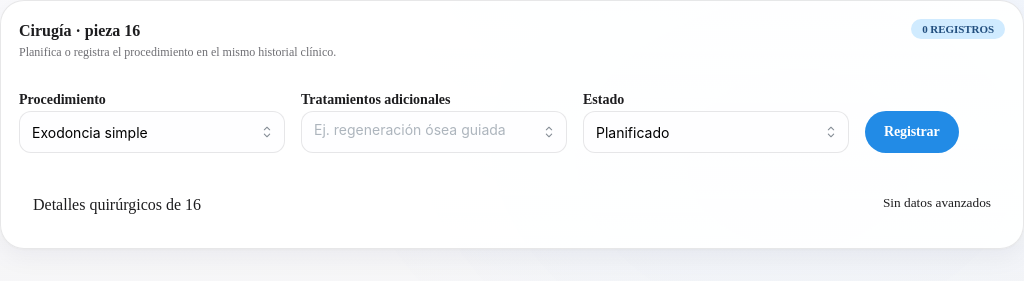
Test: offers Gingivectomía in procedure selector
Step 1. Click the dropdown labelled "Procedimiento" → (152, 132), box x1=19 y1=111 x2=285 y2=153
(page scrolled)
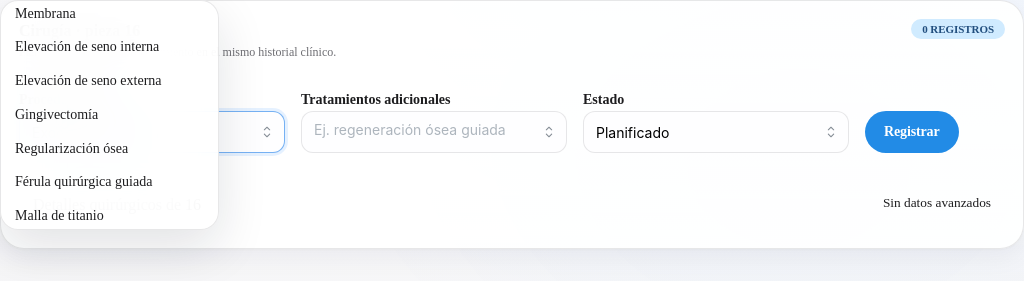
Expected: the option "Gingivectomía" is shown, x1=15 y1=107 x2=98 y2=122
